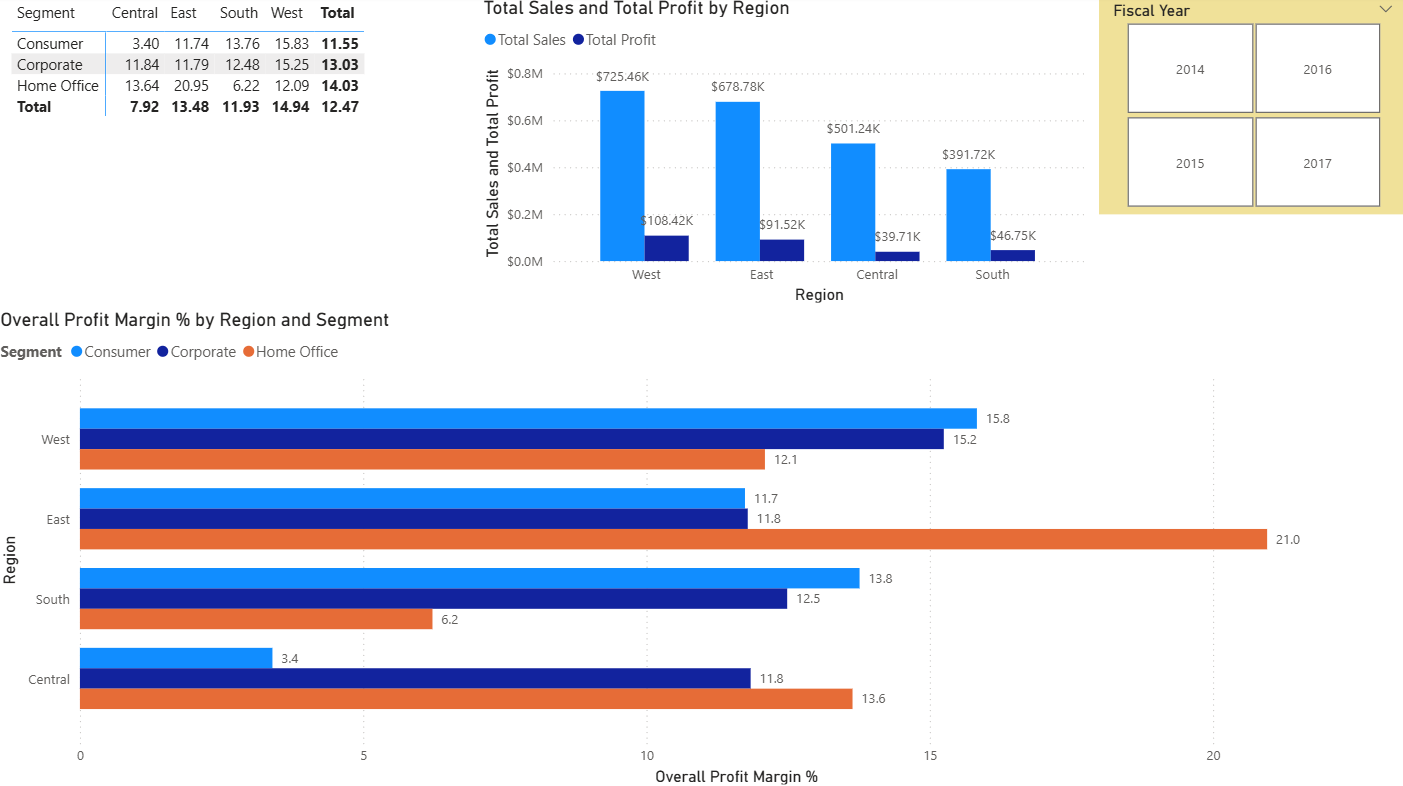

This screenshot's page, from the dashboard's own definition file:
{"tool":"powerbi","page":{"name":"Page 3","canvas":[1280,720],"ordinal":2},"visuals":[{"type":"pivotTable","fields":{"Rows":["Transformed Data.Segment"],"Columns":["Transformed Data.Region"],"Values":["Transformed Data.Overall Profit Margin %"]},"box":[9.7,0,428,283],"z":0},{"type":"clusteredBarChart","fields":{"Category":["Transformed Data.Region"],"Y":["Transformed Data.Overall Profit Margin %"],"Series":["Transformed Data.Segment"]},"box":[0,283,1280,436.7],"z":1000},{"type":"slicer","fields":{"Values":["Transformed Data.Fiscal Year"]},"box":[1000.9,0,279.1,198.4],"z":2000},{"type":"clusteredColumnChart","fields":{"Category":["Transformed Data.Region"],"Y":["Transformed Data.Total Sales","Transformed Data.Total Profit"]},"box":[437.7,0,555.4,283],"z":3000}]}

Visuals, with their boxes in screenshot pixels (x1, y1, x2, y2), scaled from the page's 1280x720 canvas onto the 1403x786 screenshot:
pivotTable - Transformed Data.Segment x Transformed Data.Region: box(11, 0, 480, 309)
clusteredBarChart - Transformed Data.Region x Transformed Data.Overall Profit Margin %: box(0, 309, 1402, 785)
slicer - Transformed Data.Fiscal Year: box(1097, 0, 1402, 217)
clusteredColumnChart - Transformed Data.Region x Transformed Data.Total Sales: box(480, 0, 1089, 309)
